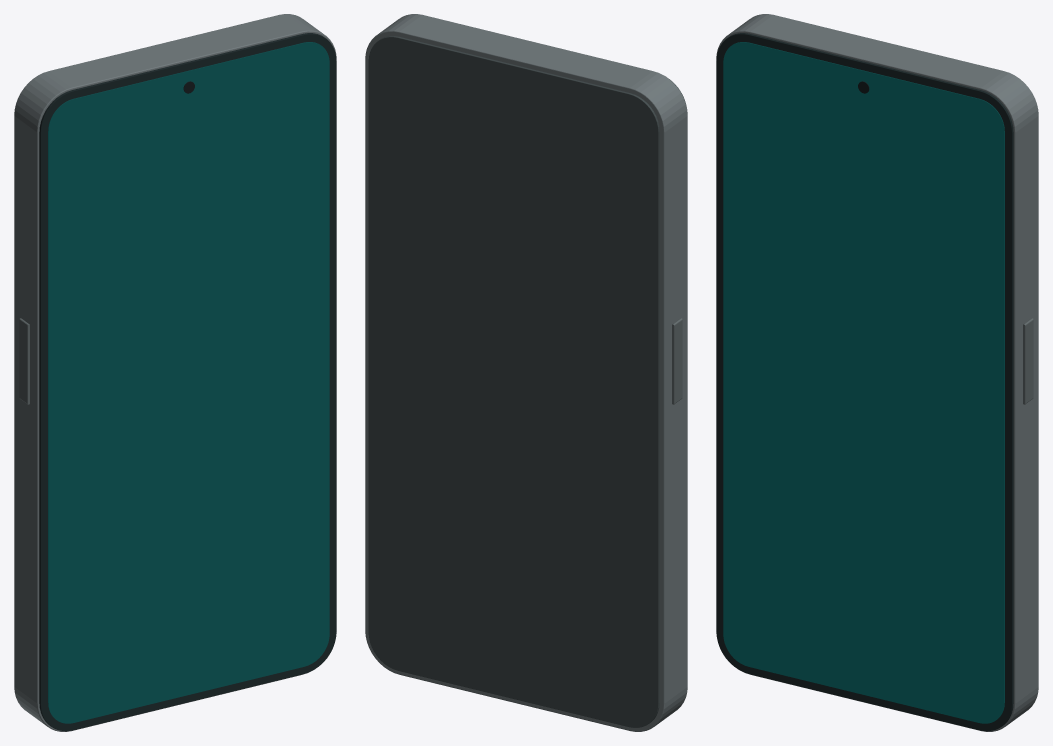
File: DATA_phone_release.glb
3 views of the same model, side by side, from view 1: azimuth 30°, elevation 25°; view 2: azimuth 150°, elevation 25°; view 3: azimuth 330°, elevation 25° (orthographic).
Parts seen in each view (by area): view 1: DATA_Display, DATA_Frame, DATA_Front_Glass, DATA_Control_L; view 2: DATA_Back, DATA_Frame, DATA_Control_L; view 3: DATA_Display, DATA_Frame, DATA_Front_Glass, DATA_Control_R.
Part boxes in pixels (bbox=[...]): DATA_Display: bbox=[48, 42, 329, 723]; DATA_Frame: bbox=[14, 14, 336, 731]; DATA_Front_Glass: bbox=[39, 33, 336, 731]; DATA_Control_L: bbox=[19, 318, 29, 404]; DATA_Back: bbox=[368, 36, 659, 727]; DATA_Frame: bbox=[365, 14, 687, 731]; DATA_Control_L: bbox=[672, 318, 682, 404]; DATA_Display: bbox=[723, 42, 1004, 723]; DATA_Frame: bbox=[716, 14, 1038, 731]; DATA_Front_Glass: bbox=[716, 33, 1013, 731]; DATA_Control_R: bbox=[1023, 318, 1033, 404].
Bounding box in the file's own units: 0.0792 × 0.16 × 0.0121.
